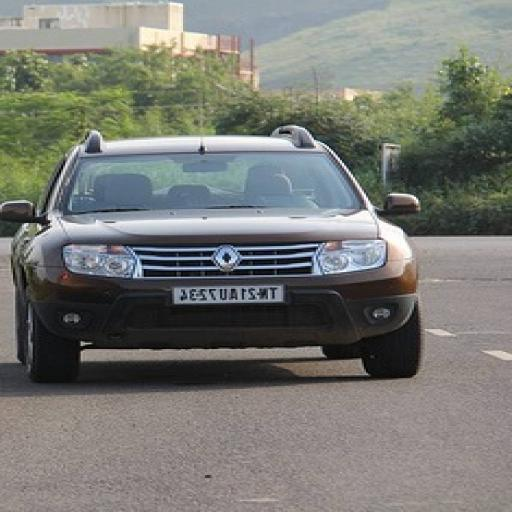License: (176, 283, 288, 301)
